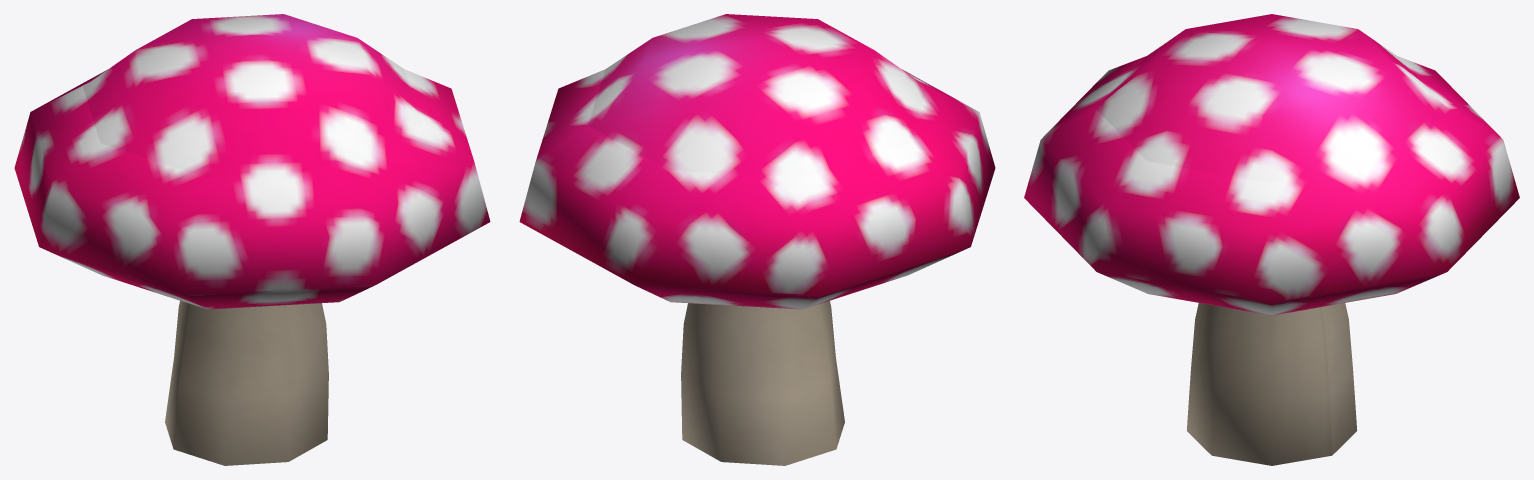
Rendered from Kinoko.fbx.
3 views of the same model, side by side, from view 1: azimuth 30°, elevation 25°; view 2: azimuth 150°, elevation 25°; view 3: azimuth 270°, elevation 25° (orthographic).
Visible parts, largest first — view 1: Kinoko; view 2: Kinoko; view 3: Kinoko.
Boxes of the visible parts, x1,y1,x2,y2 form: Kinoko: (14,14,490,465); Kinoko: (519,14,995,465); Kinoko: (1024,14,1519,465).
Size of the model in its own units: 100 by 89.94 by 100.
